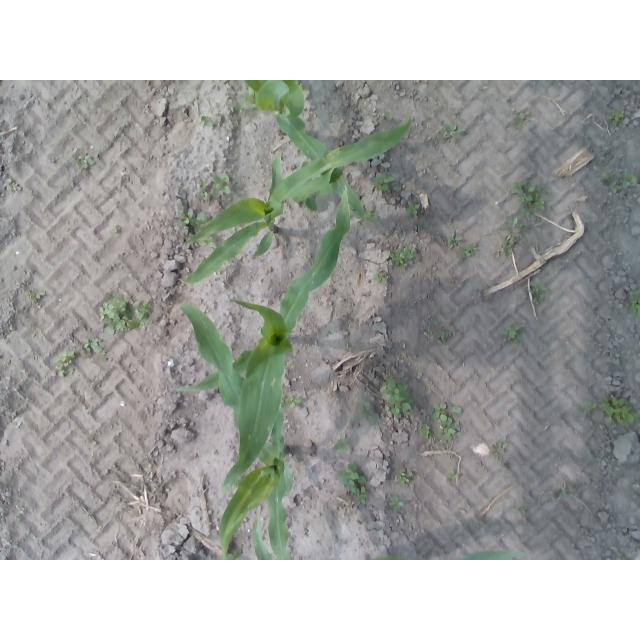Maize: (177, 187, 351, 489), (179, 117, 413, 283), (181, 304, 292, 561), (247, 81, 370, 222), (253, 520, 524, 560)
Weeds: (99, 292, 137, 333), (383, 381, 415, 417), (603, 396, 638, 428), (338, 463, 367, 494), (516, 182, 549, 209), (442, 406, 463, 443), (353, 400, 379, 425), (52, 352, 76, 379), (391, 247, 418, 270), (210, 174, 231, 196), (135, 302, 153, 326), (503, 233, 520, 255), (179, 206, 195, 229), (500, 216, 522, 232), (446, 124, 466, 141), (83, 338, 103, 355), (395, 469, 413, 487), (530, 282, 546, 302), (373, 177, 395, 191), (333, 434, 351, 450), (503, 326, 521, 341), (517, 109, 530, 129), (372, 269, 389, 284), (493, 442, 508, 459), (407, 200, 421, 216), (434, 402, 447, 419), (448, 231, 460, 249), (462, 245, 479, 257), (630, 296, 640, 316), (419, 423, 433, 437), (620, 176, 636, 188), (81, 158, 95, 171), (390, 497, 403, 511), (353, 494, 367, 506), (584, 401, 597, 413), (599, 173, 613, 184), (610, 111, 623, 122), (32, 289, 46, 299), (201, 116, 212, 128), (290, 397, 303, 407), (196, 187, 208, 197), (438, 332, 452, 340), (8, 184, 21, 192), (449, 470, 459, 480), (520, 506, 529, 515)
